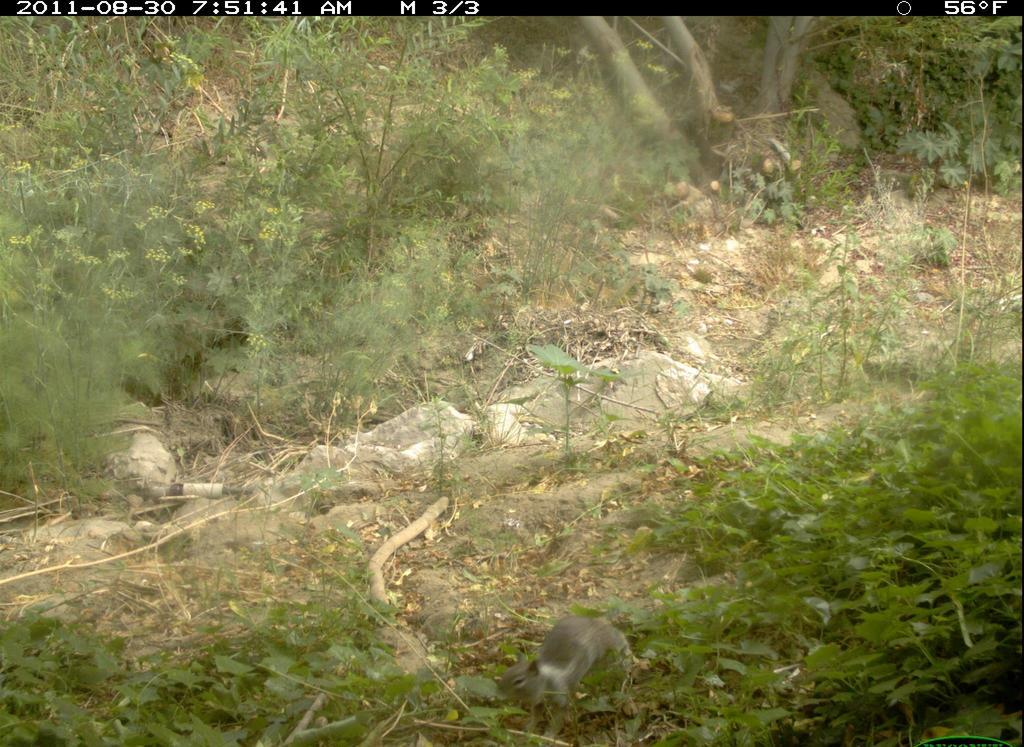squirrel: (493, 610, 652, 726)
